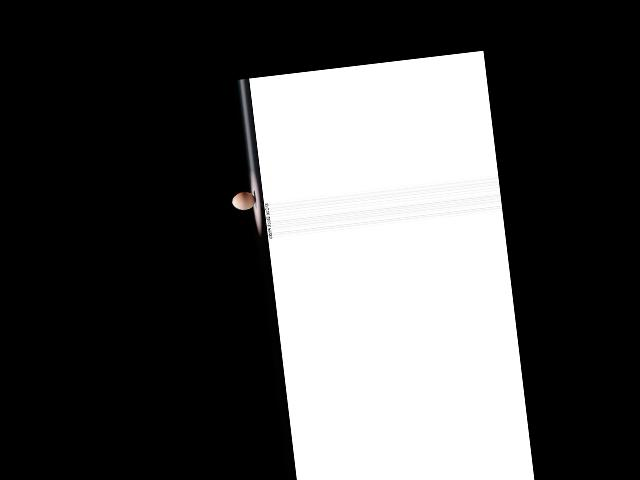egg: (231, 190, 256, 211)
